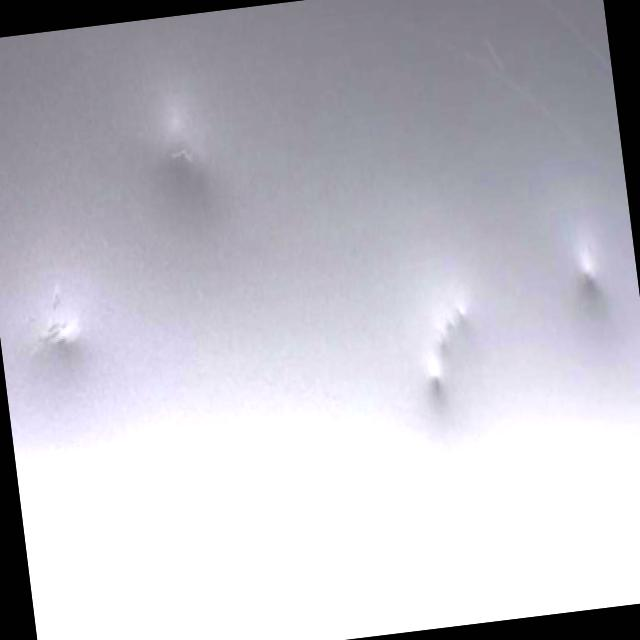dent: (20, 268, 92, 366), (408, 300, 473, 400), (162, 117, 232, 183), (572, 238, 616, 312)
